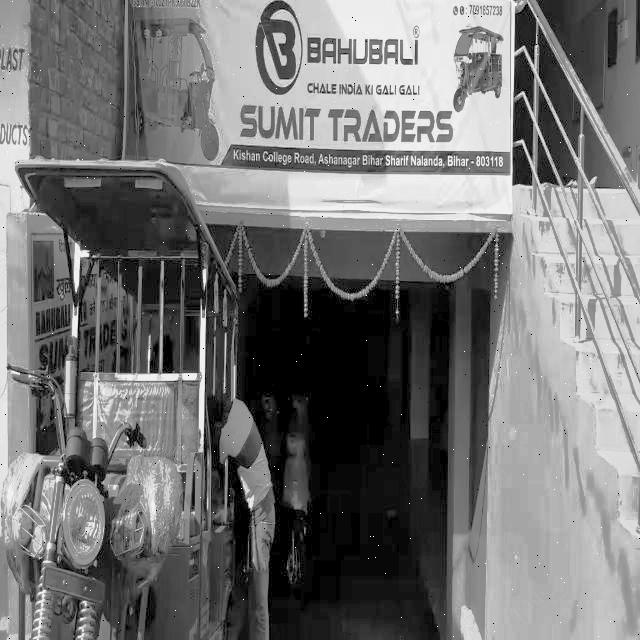Toto: (9, 153, 236, 640)
